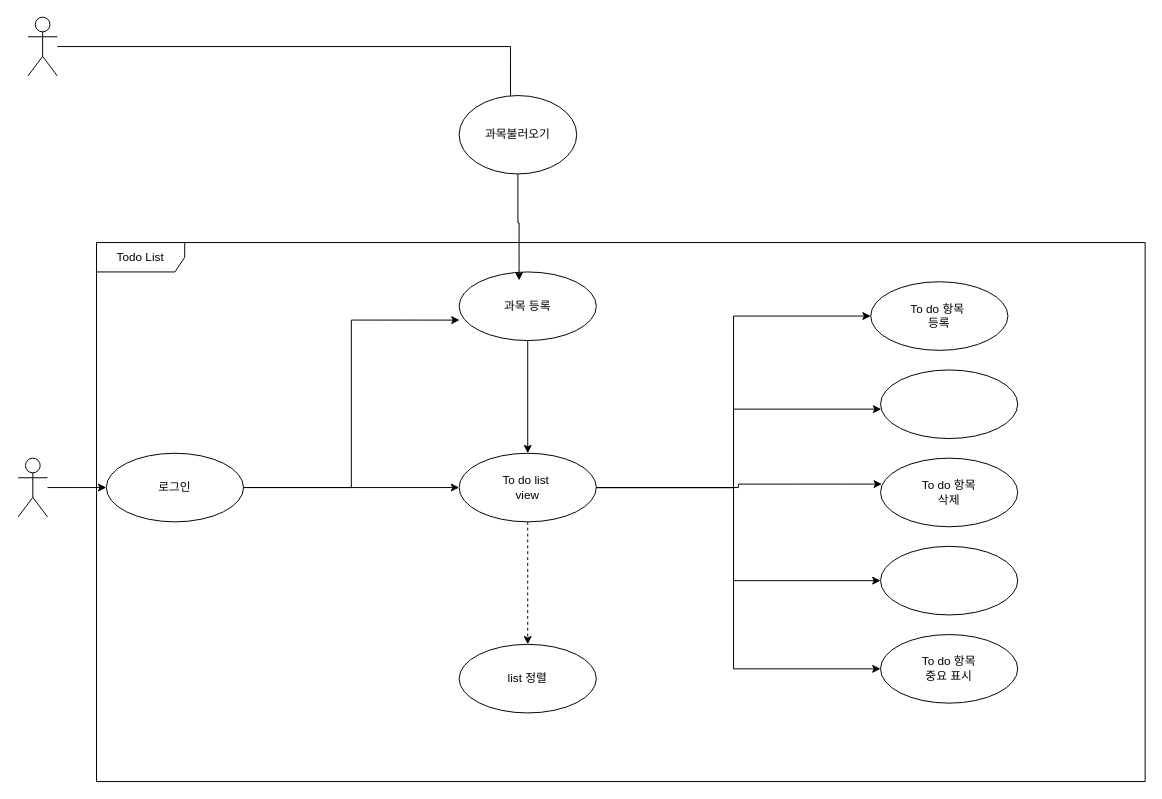
The diagram is 1162 pixels wide and 799 high, and some of its shapes have lost their labels. The shapes that lost their labels are listed below. From the top down, each one's box as (x1, y1, x2, y2) in pixels, then its label:
(27, 16, 57, 76): 학사 정보 시스템 과목
(880, 369, 1018, 439): To do 항목 수정
(17, 457, 48, 517): 대학생
(880, 545, 1018, 615): To do 항목 숨김 기능
